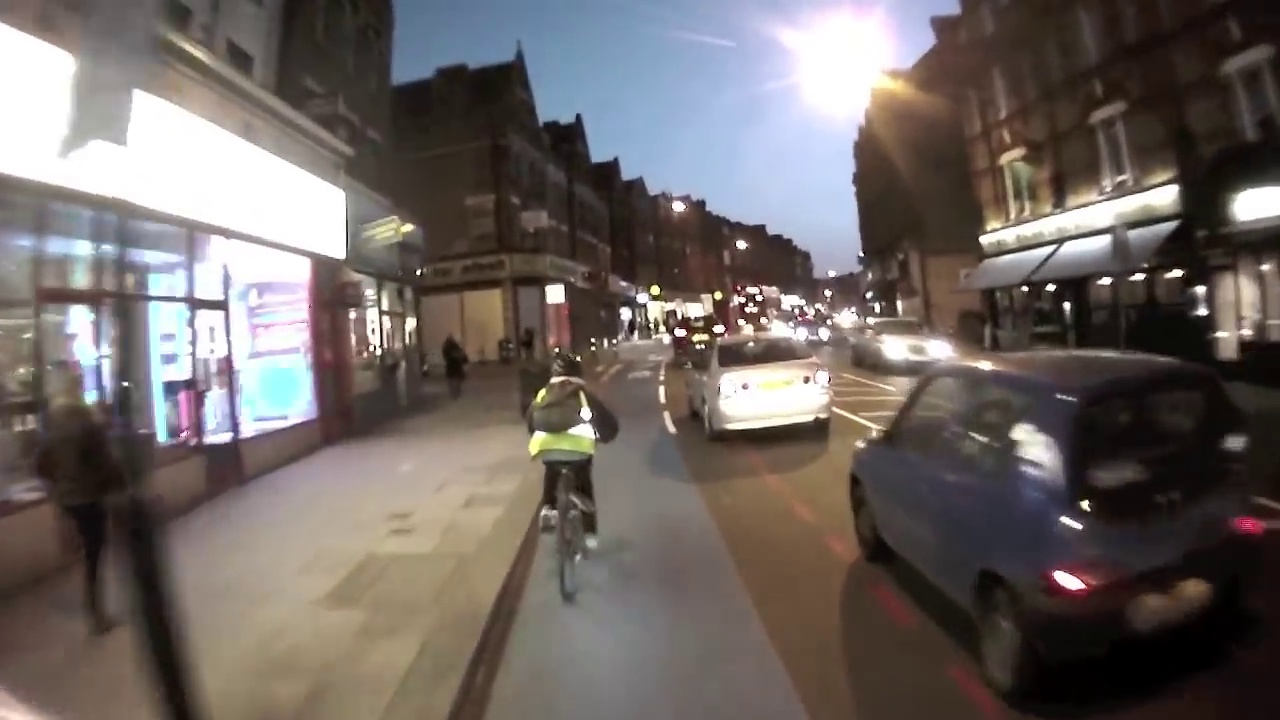cyclist_back: (531, 351, 615, 606)
